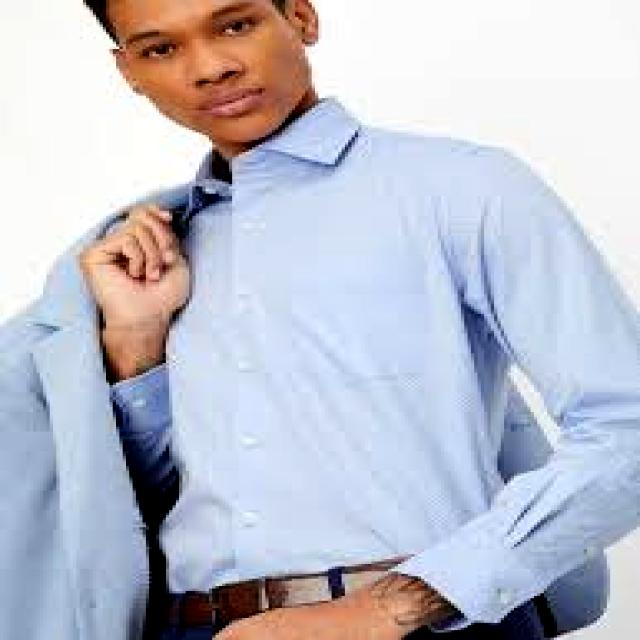face: (110, 0, 318, 159)
top-wear: (157, 101, 634, 602)
